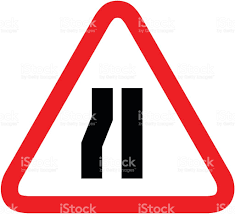Narrow_road: (2, 1, 234, 214)
